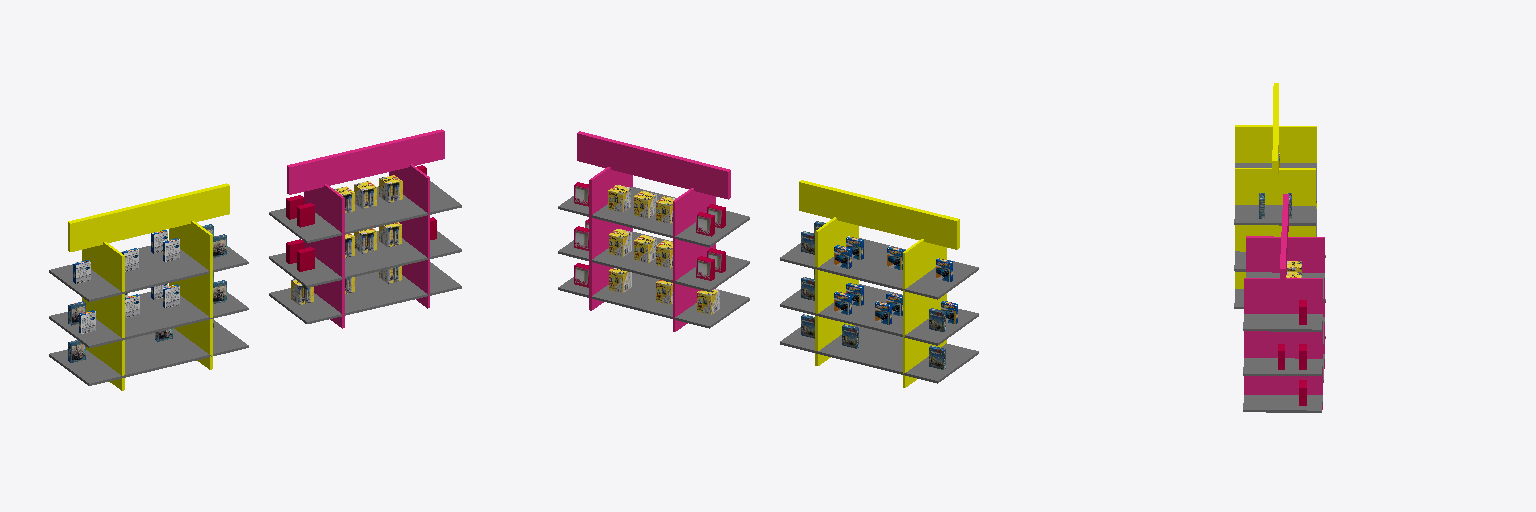
The picture shows the model from 3 angles: view 1: azimuth 30°, elevation 25°; view 2: azimuth 150°, elevation 25°; view 3: azimuth 270°, elevation 25°; orthographic projection.
Visible parts, largest first — view 1: polySurface166; view 2: polySurface166; view 3: polySurface166.
Part boxes in pixels (bbox=[...]): polySurface166: bbox=[49, 129, 461, 390]; polySurface166: bbox=[558, 131, 978, 387]; polySurface166: bbox=[1234, 83, 1325, 412].
Bounding box in the file's own units: 8.26 × 3.37 × 1.73.
8 materials, 6 textured.